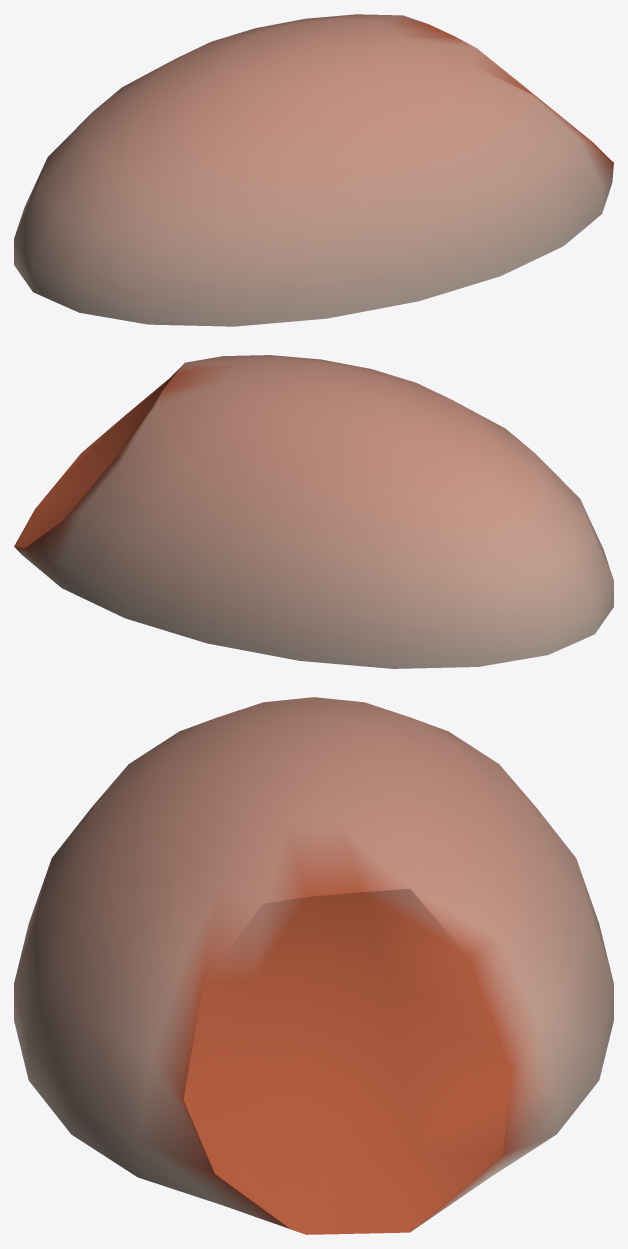
File: dimsum-hargow-s1.glb
The picture shows the model from 3 angles, top to bottom: view 1: azimuth 30°, elevation 25°; view 2: azimuth 150°, elevation 25°; view 3: azimuth 270°, elevation 25°; orthographic projection. The views are drawn at different scales.
Parts seen in each view (by area): view 1: food__food; view 2: food__food; view 3: food__food.
Boxes of the visible parts, <box> form: food__food: <box>14,14,613,326</box>; food__food: <box>14,355,613,668</box>; food__food: <box>14,697,613,1234</box>.
Bounding box in the file's own units: 0.0514 × 0.0178 × 0.0337.
